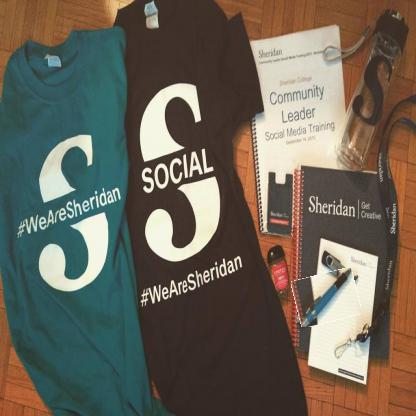Pen: (293, 271, 360, 325)
